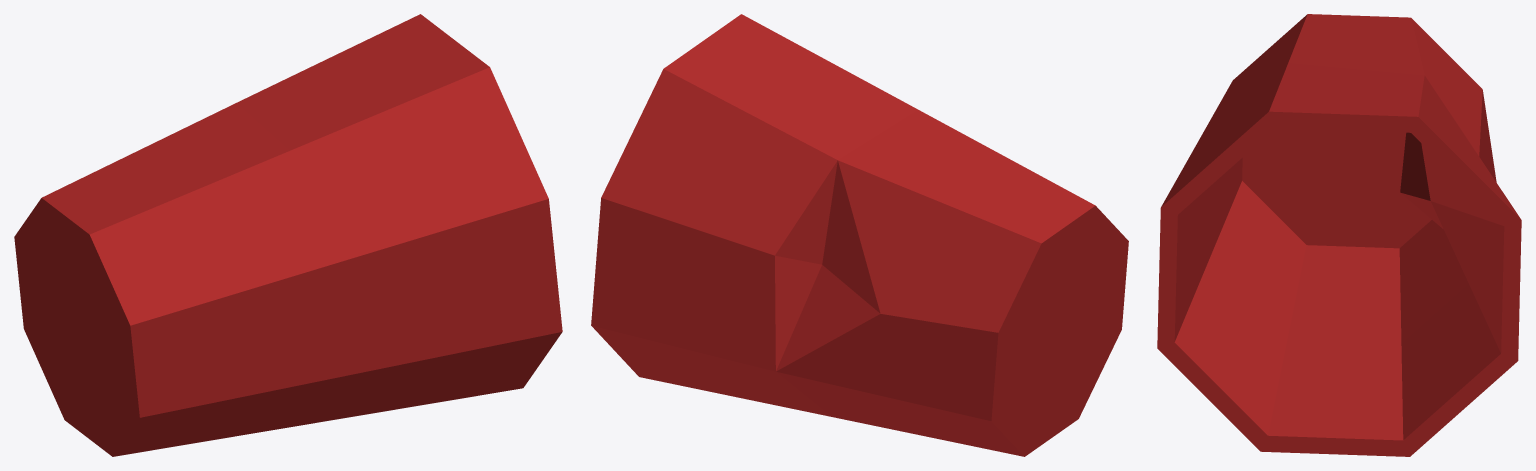
Rendered from Red_Dirty.fbx.
3 views of the same model, side by side, from view 1: azimuth 30°, elevation 25°; view 2: azimuth 150°, elevation 25°; view 3: azimuth 270°, elevation 25° (orthographic). The views are drawn at different scales.
Visible parts, largest first — view 1: Red_Dirty; view 2: Red_Dirty; view 3: Red_Dirty.
Boxes of the visible parts, left/top/right/bottom form: Red_Dirty: left=14, top=14, right=562, bottom=456; Red_Dirty: left=591, top=14, right=1128, bottom=456; Red_Dirty: left=1157, top=14, right=1521, bottom=456.
Bounding box in the file's own units: 58.57 × 44.16 × 44.39.
